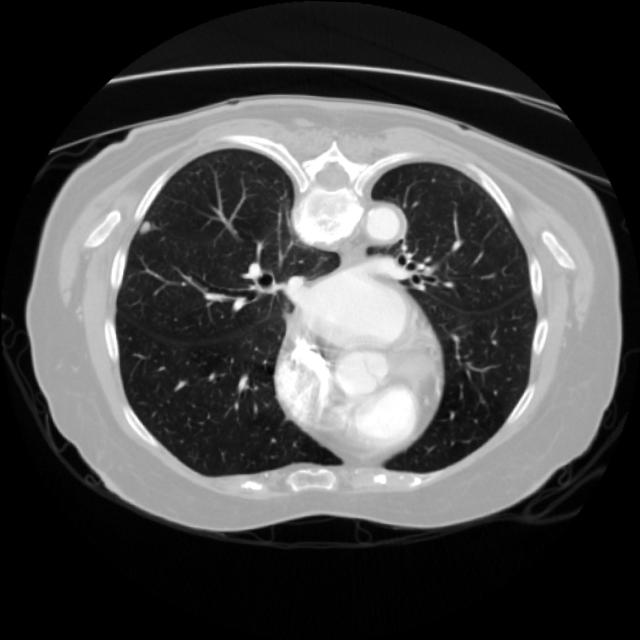nodule: (128, 214, 158, 242)
